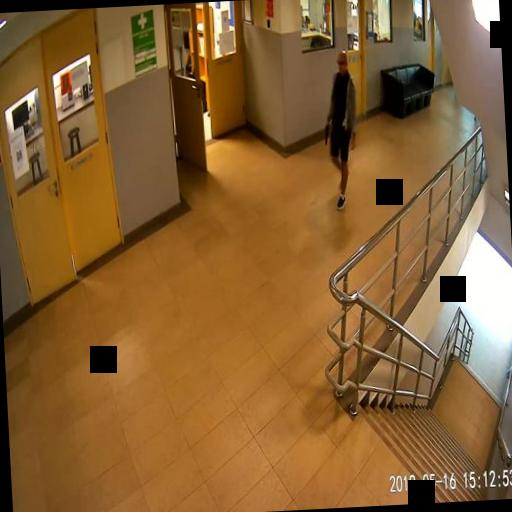Handgun: (322, 121, 329, 143)
